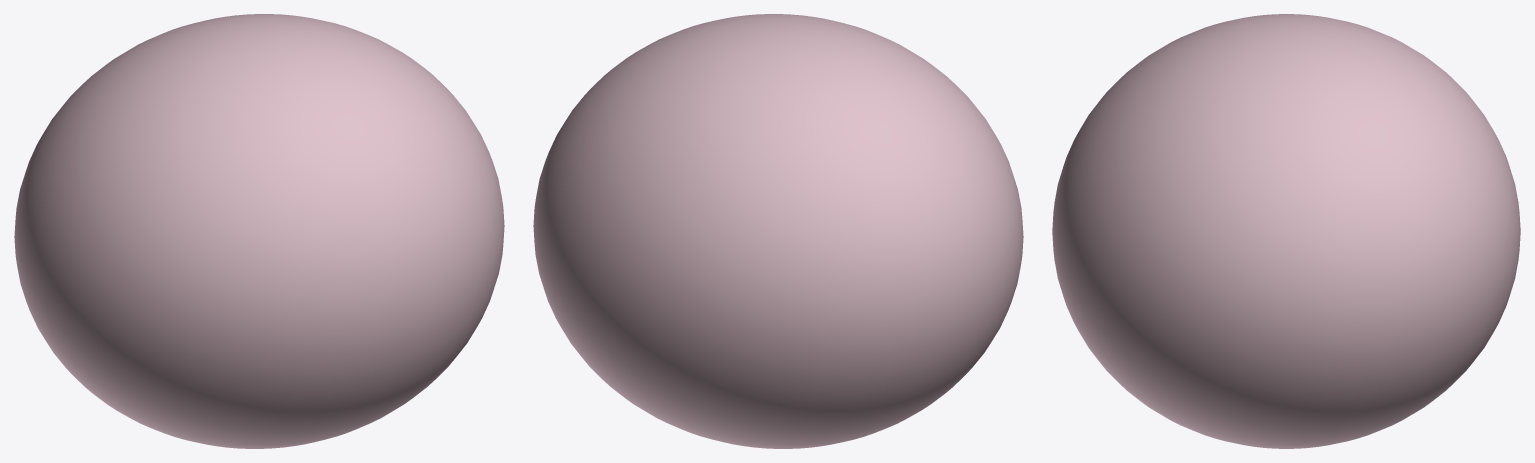
File: celula-animal.glb
The picture shows the model from 3 angles, left to right: view 1: azimuth 30°, elevation 25°; view 2: azimuth 150°, elevation 25°; view 3: azimuth 270°, elevation 25°; orthographic projection.
Parts seen in each view (by area): view 1: Membrana celular; view 2: Membrana celular; view 3: Membrana celular.
Part boxes in pixels (left/top/right/bottom): Membrana celular: left=14, top=14, right=504, bottom=448; Membrana celular: left=533, top=14, right=1023, bottom=448; Membrana celular: left=1052, top=14, right=1520, bottom=448.
Size of the model in its own units: 2.1 by 1.8 by 2.
